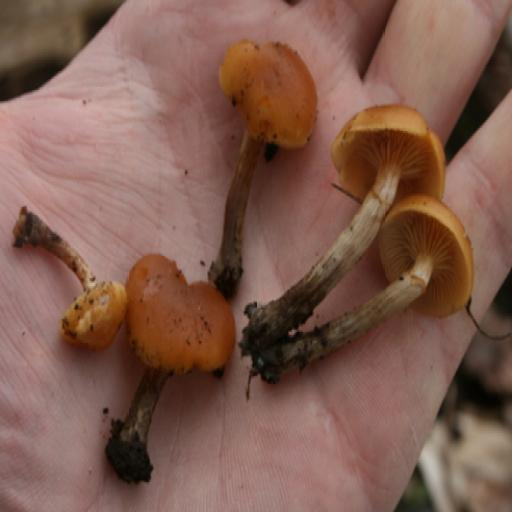mushroom: (235, 104, 475, 381), (212, 26, 317, 287), (126, 247, 239, 462), (7, 196, 130, 362)
